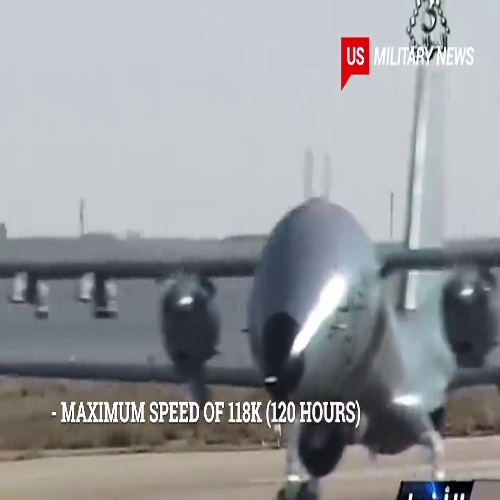uav405: (7, 196, 500, 489)
